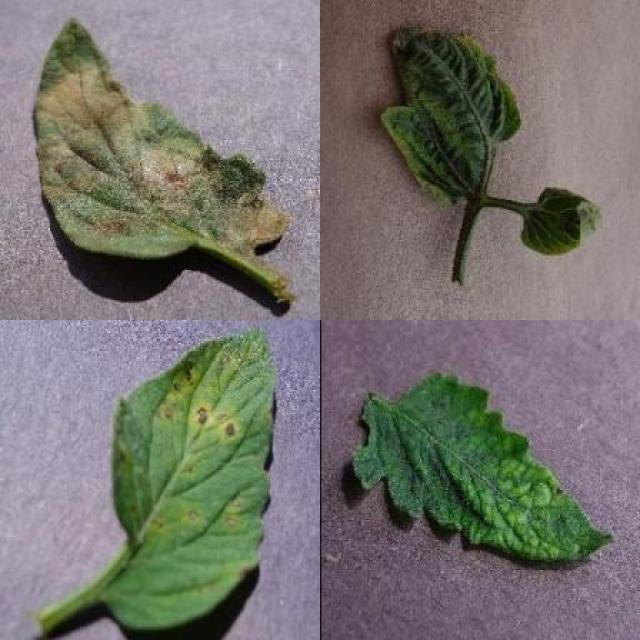Late Blight: (32, 12, 294, 261)
Mosaic Virus: (352, 371, 614, 564)
Septoria: (110, 326, 279, 631)
Yellow Leaf Curl Virus: (375, 25, 522, 208), (516, 184, 604, 256)
